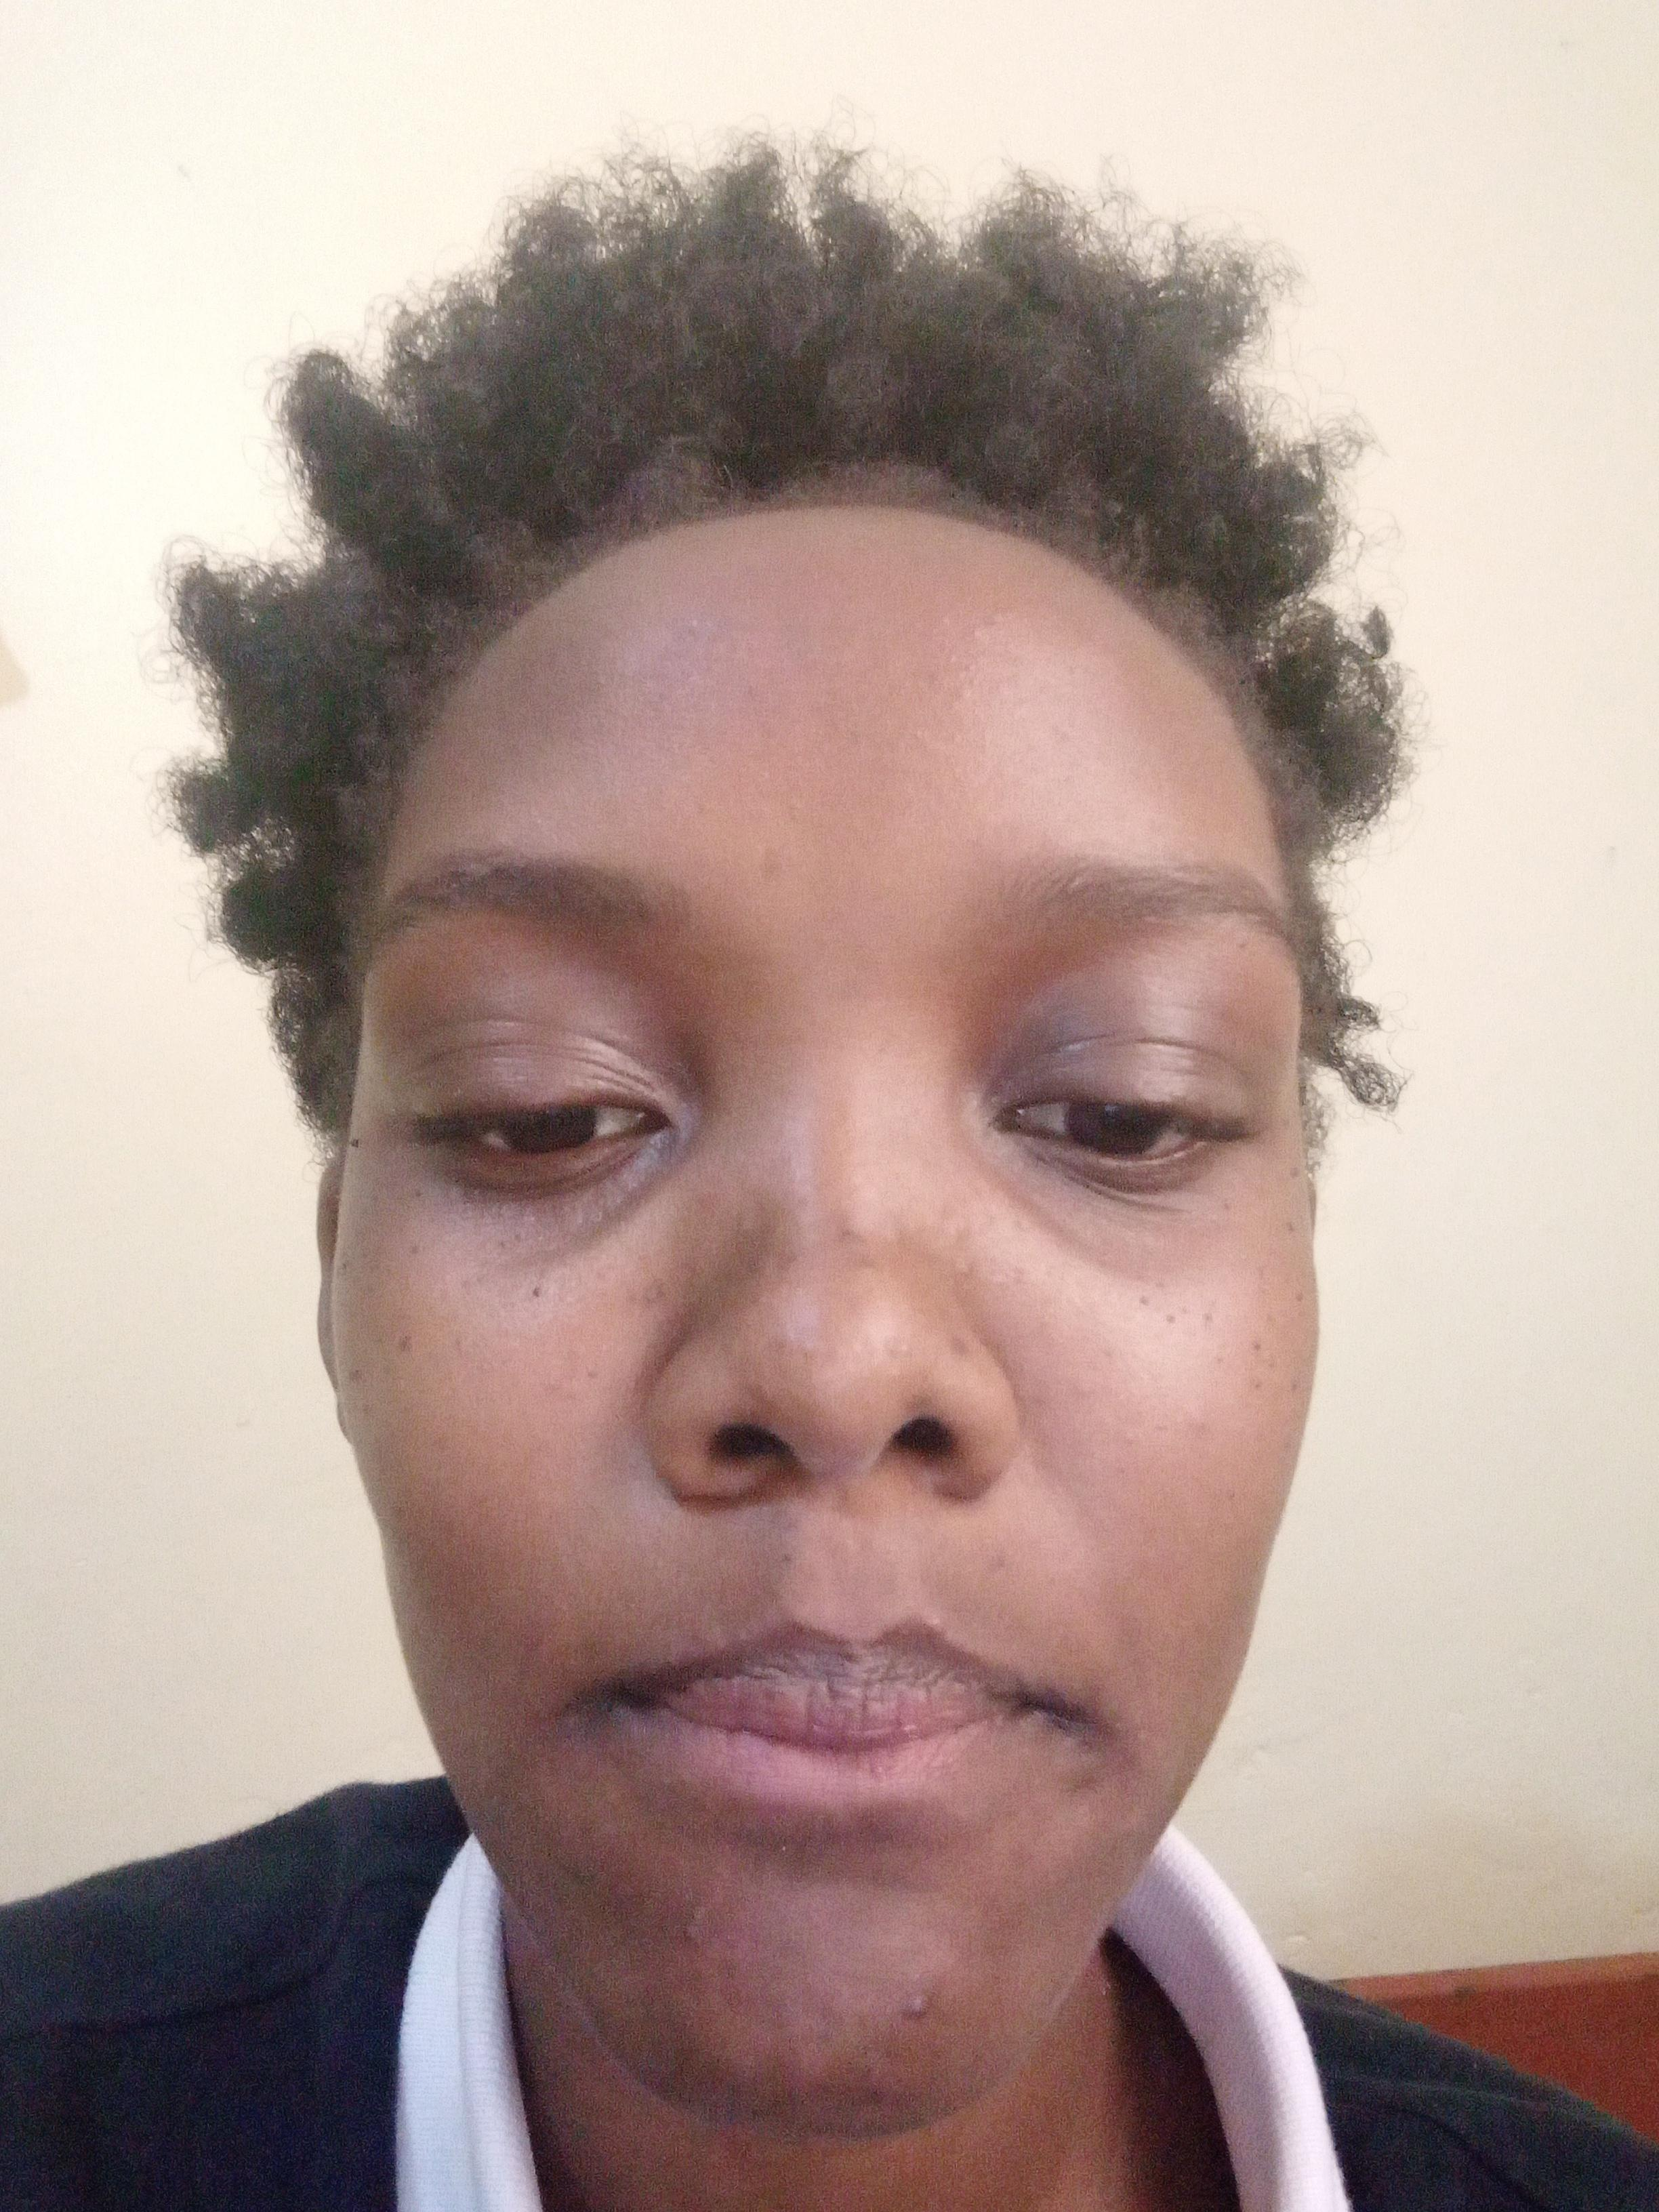Acne: (927, 599, 1018, 711), (730, 1507, 798, 1573), (660, 1900, 723, 1954), (890, 1977, 946, 2019), (875, 1334, 924, 1364), (917, 1609, 957, 1639)
Eyebags: (408, 1122, 699, 1264), (967, 1137, 1249, 1284)
